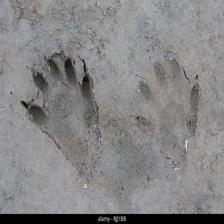raccoon: (21, 56, 108, 181), (133, 54, 203, 179)
